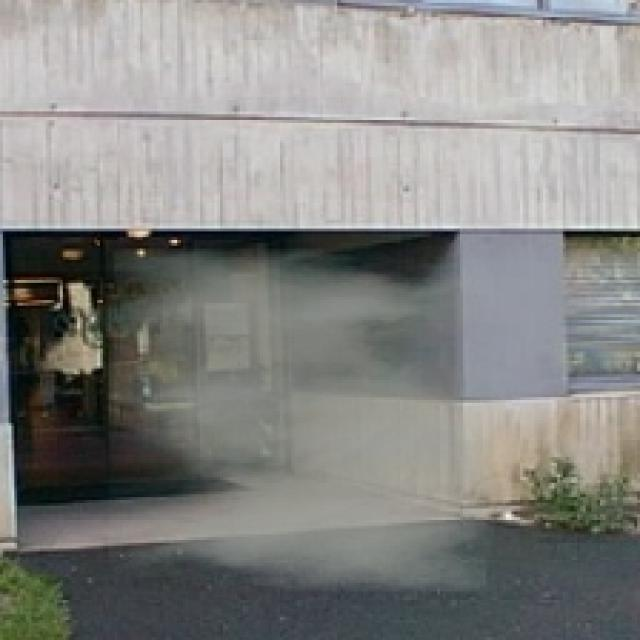smoke: (109, 248, 494, 592)
